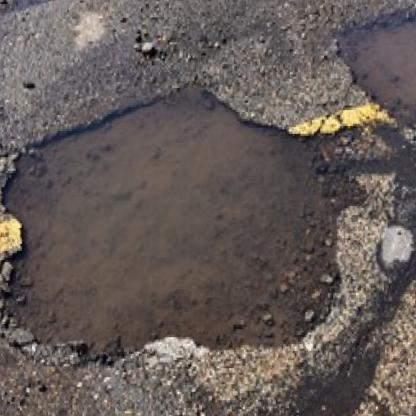pothole: (0, 73, 365, 367), (338, 14, 416, 131)
